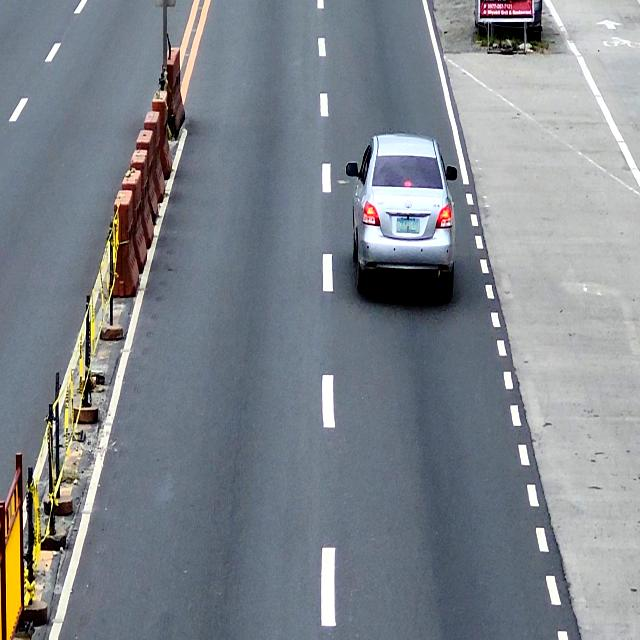Car: (345, 134, 457, 300)
License-Plate: (396, 218, 419, 234)
